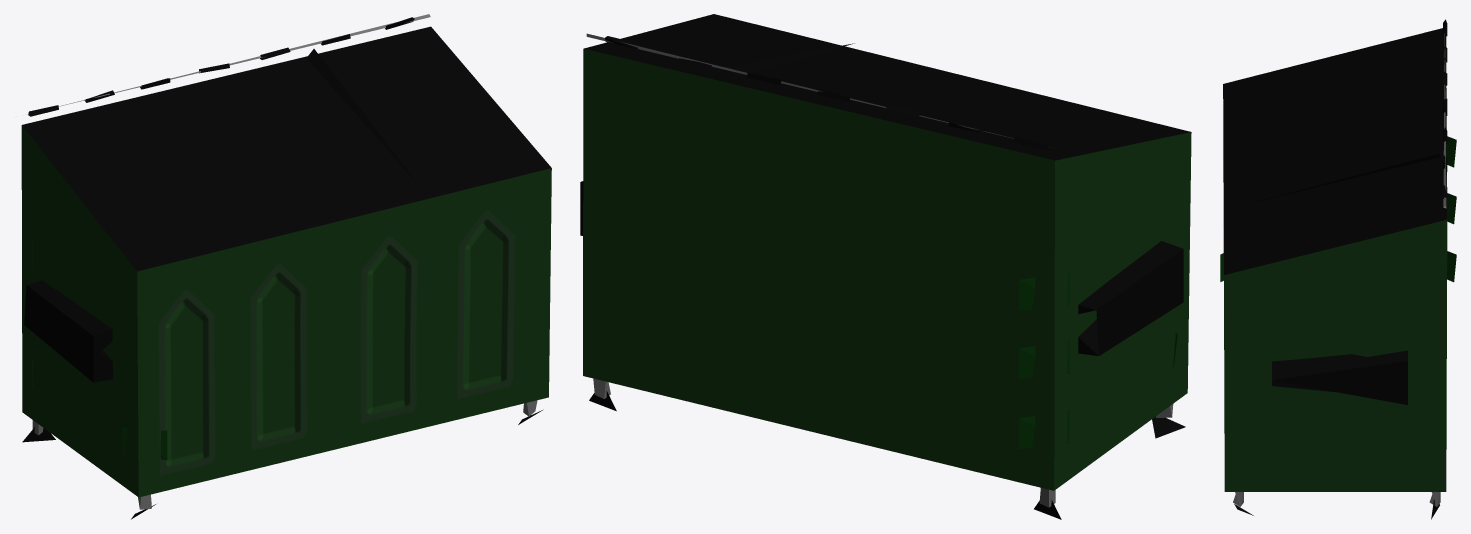
File: LixeiraGrande_LOD2.fbx
The picture shows the model from 3 angles, left to right: view 1: azimuth 30°, elevation 25°; view 2: azimuth 150°, elevation 25°; view 3: azimuth 270°, elevation 25°; orthographic projection. The views are drawn at different scales.
Visible parts, largest first — view 1: LixeiraGrande)Lod2; view 2: LixeiraGrande)Lod2; view 3: LixeiraGrande)Lod2.
Boxes of the visible parts, box(x1,y1,x2,y2) form: LixeiraGrande)Lod2: box(21, 14, 551, 519); LixeiraGrande)Lod2: box(580, 14, 1191, 519); LixeiraGrande)Lod2: box(1220, 19, 1456, 519).
Bounding box in the file's own units: 251 × 175 × 119.
